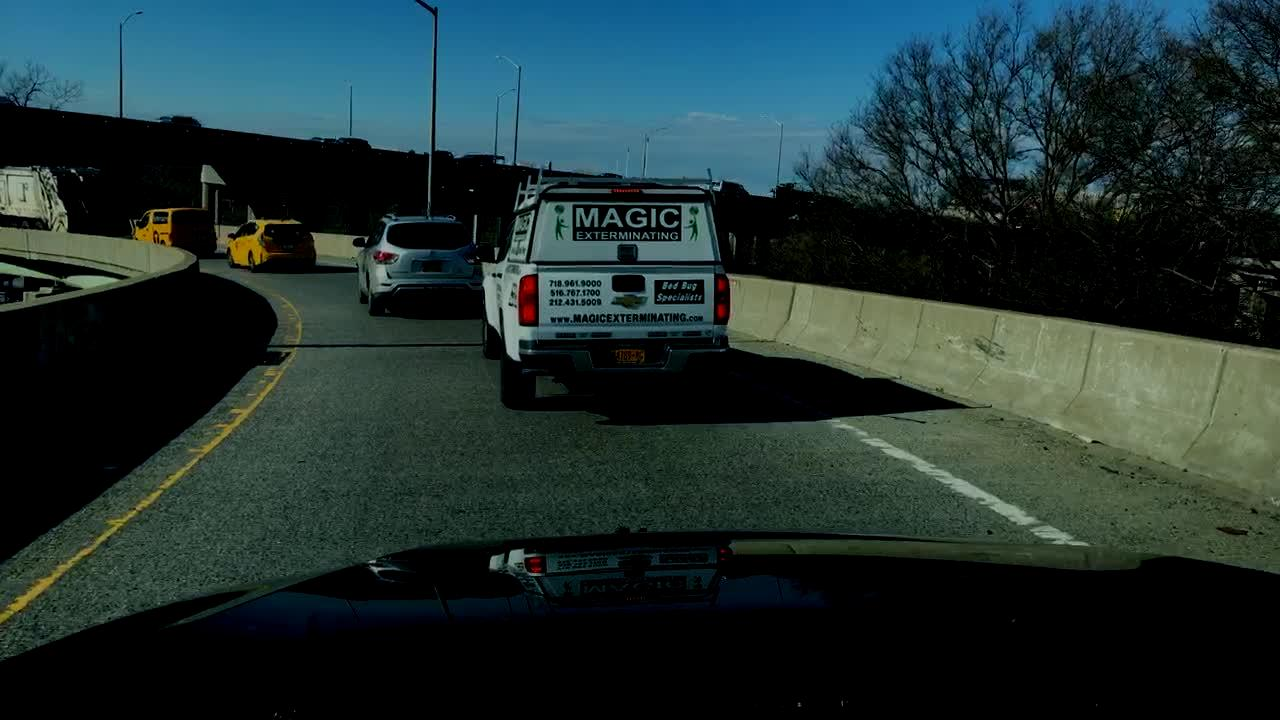chevrolet: (610, 292, 651, 310)
